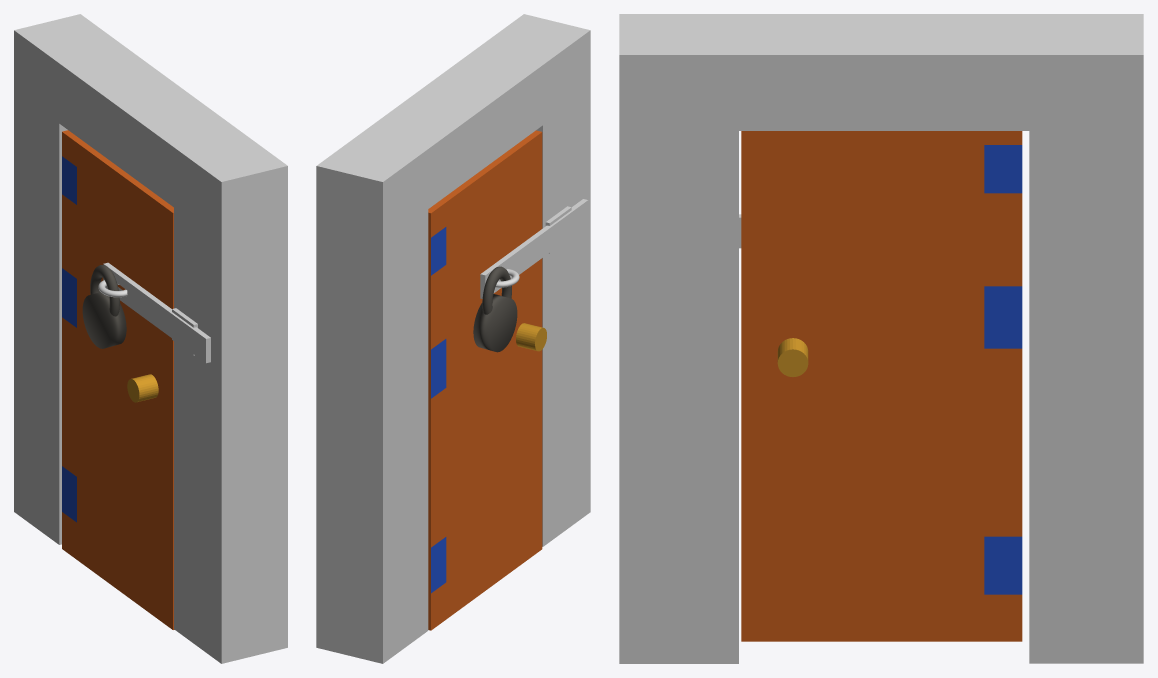
File: Door and door frame23blend.fbx
3 views of the same model, side by side, from view 1: azimuth 30°, elevation 25°; view 2: azimuth 150°, elevation 25°; view 3: azimuth 270°, elevation 25° (orthographic). The views are drawn at different scales.
Parts seen in each view (by area): view 1: Cube.001, Cube, Cube.003, Cylinder.001, Cylinder; view 2: Cube.001, Cube, Cube.003, Cylinder.001, Cylinder; view 3: Cube.001, Cube, Cylinder.
Part boxes in pixels (box(x1,y1,x2,y2)): Cube.001: box(14, 14, 287, 663); Cube: box(62, 130, 174, 629); Cube.003: box(103, 262, 210, 363); Cylinder.001: box(82, 265, 126, 348); Cylinder: box(127, 374, 158, 402); Cube.001: box(316, 14, 590, 663); Cube: box(428, 130, 542, 630); Cube.003: box(480, 199, 588, 298); Cylinder.001: box(473, 266, 517, 352); Cylinder: box(516, 323, 546, 351); Cube.001: box(619, 14, 1143, 663); Cube: box(741, 131, 1022, 641); Cylinder: box(777, 338, 808, 376).
Bounding box in the file's own units: 93.31 × 480 × 373.
